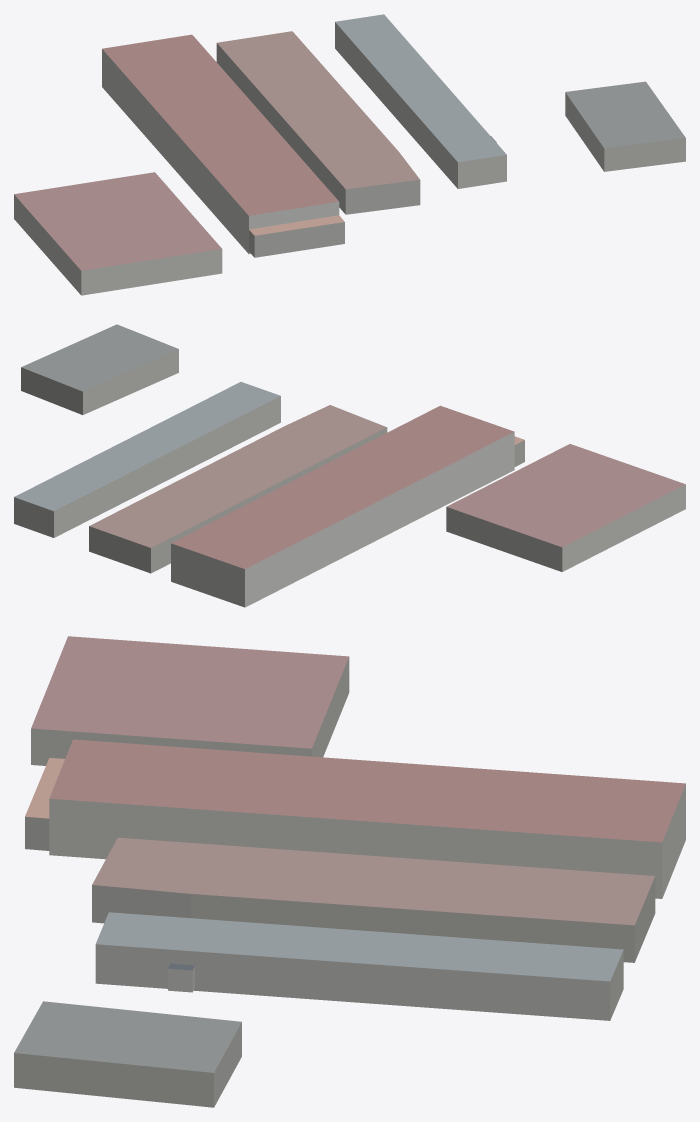
The picture shows the model from 3 angles, top to bottom: view 1: azimuth 30°, elevation 25°; view 2: azimuth 150°, elevation 25°; view 3: azimuth 270°, elevation 25°; orthographic projection. The views are drawn at different scales.
Parts seen in each view (by area): view 1: tuile; view 2: tuile; view 3: tuile.
Part boxes in pixels (x1=…): tuile: x1=14, y1=14, x2=685, y2=295; tuile: x1=14, y1=324, x2=685, y2=607; tuile: x1=14, y1=636, x2=685, y2=1107.
Size of the model in its own units: 269 by 16.06 by 173.
